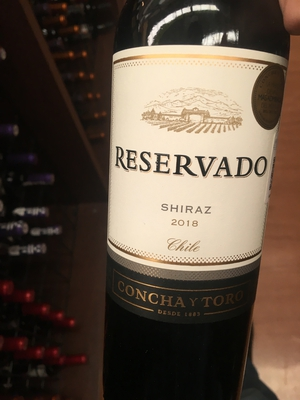reservado shiraz: (102, 18, 286, 400)
